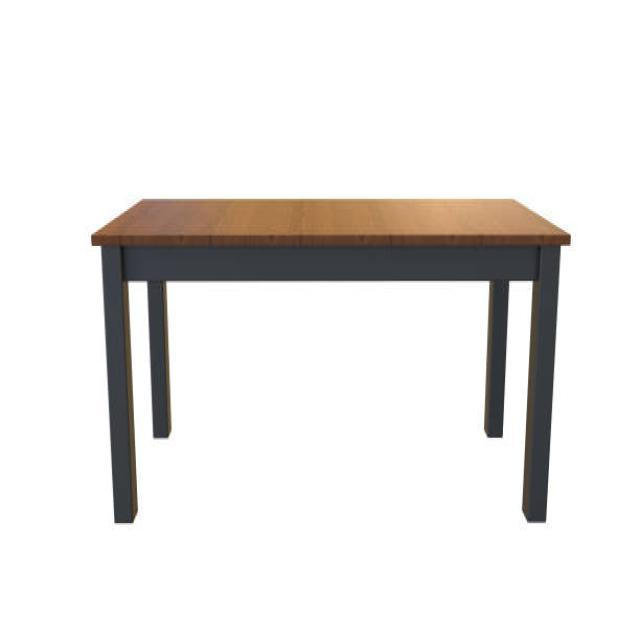table: (90, 195, 571, 525)
